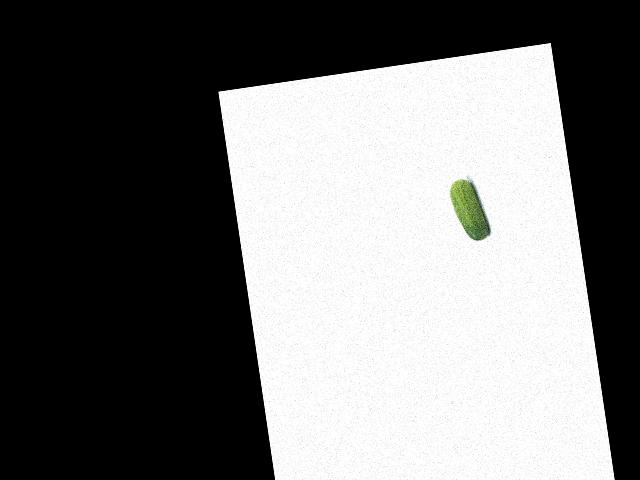cucumber: (448, 176, 490, 243)
